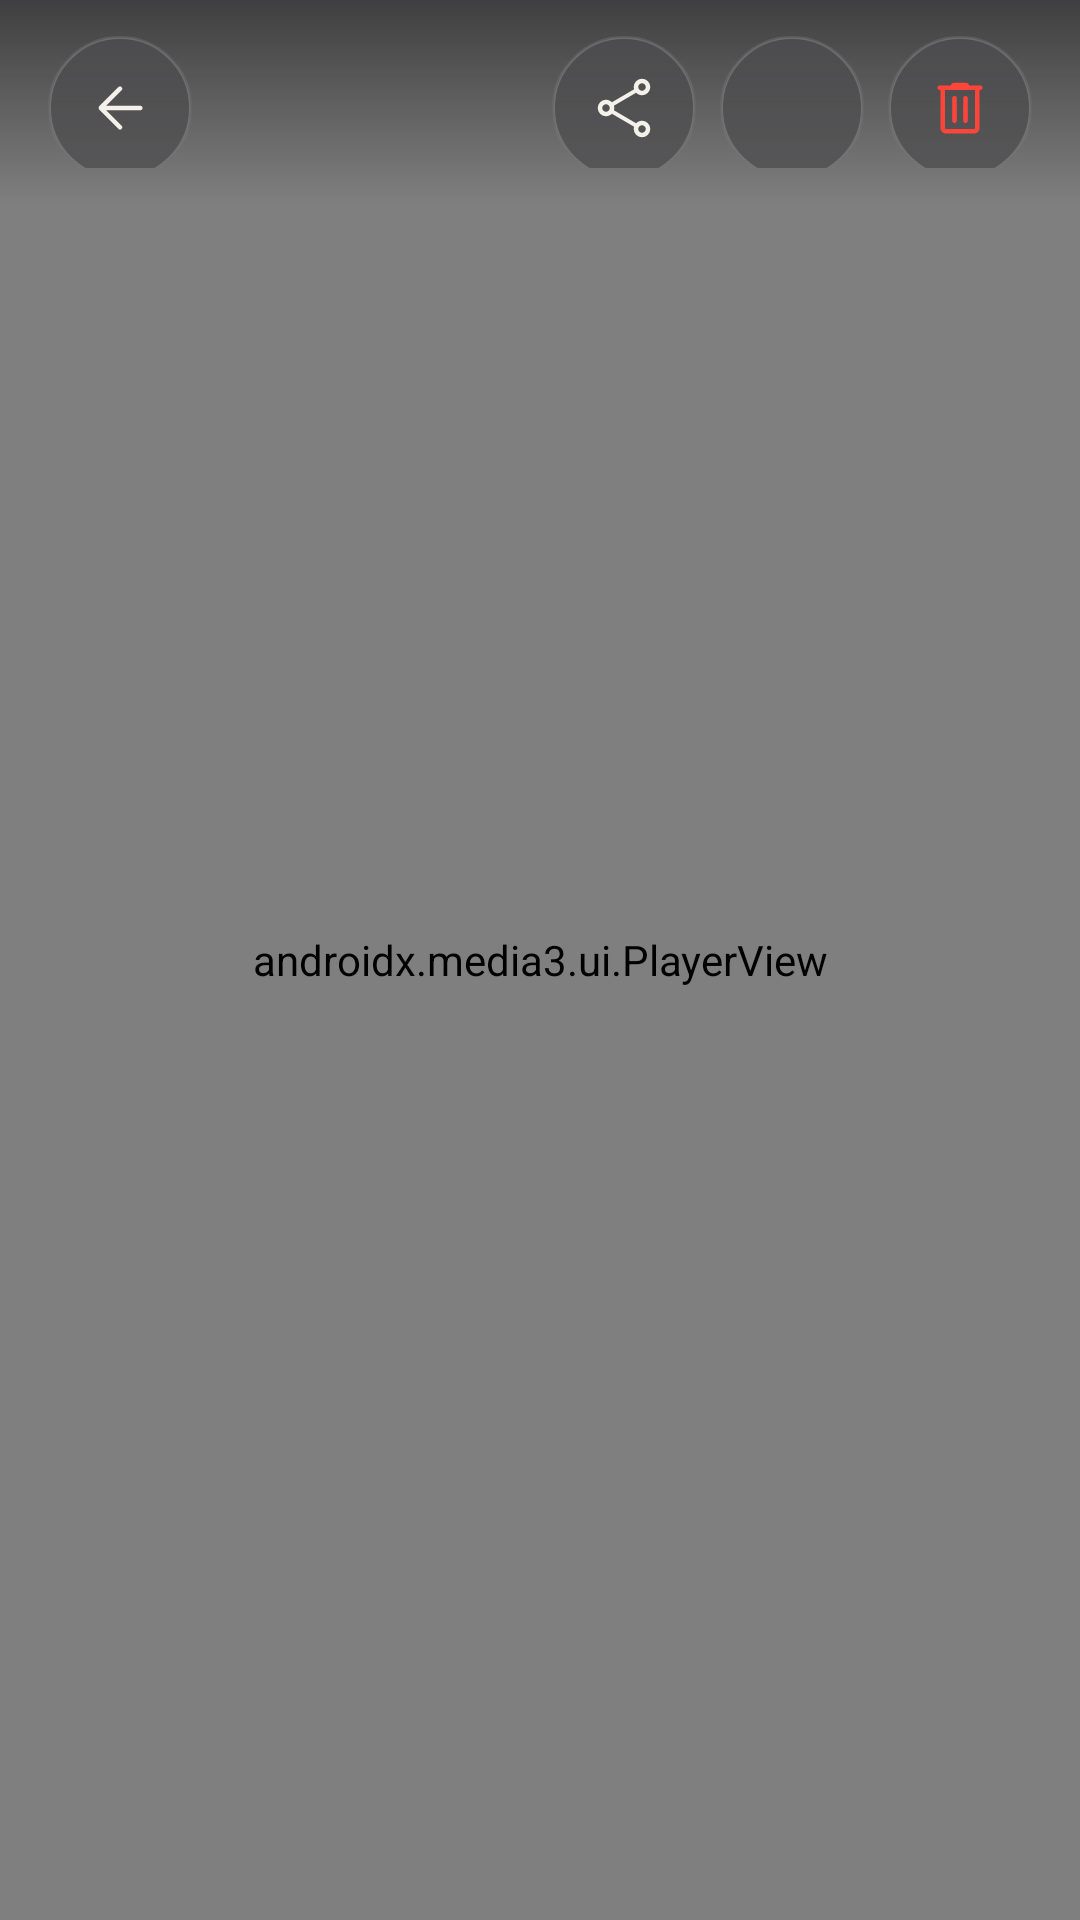

Where to tap for icons on this 1080×1920 app screen, as (x,y):
Back: (120,108)
Delete: (960,108)
Share: (624,108)
